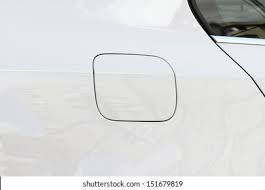closed: (90, 49, 180, 126)
